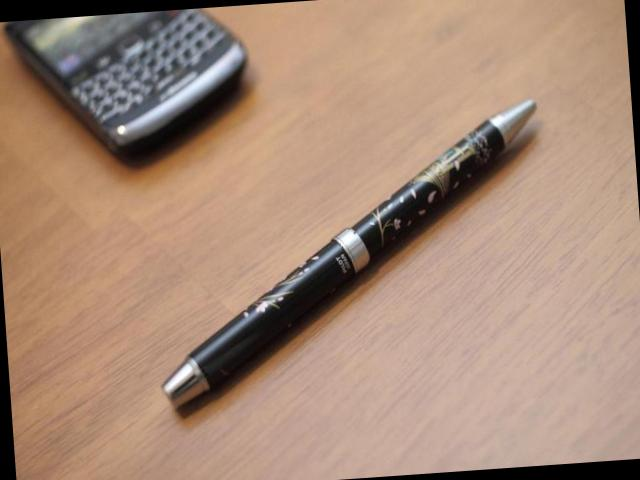PEN: (137, 65, 561, 434)
